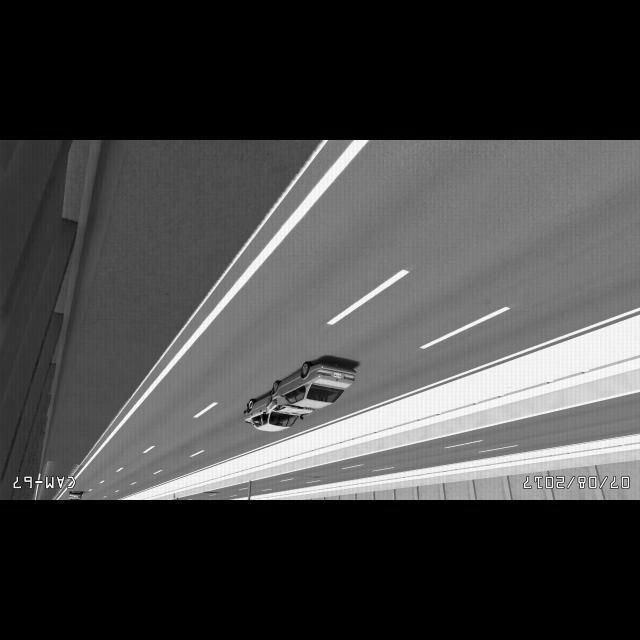moderate: (241, 359, 360, 434)
